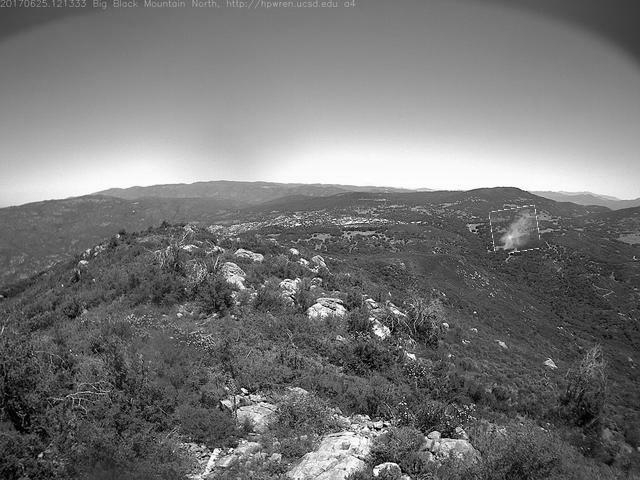smoke: (492, 208, 541, 254)
